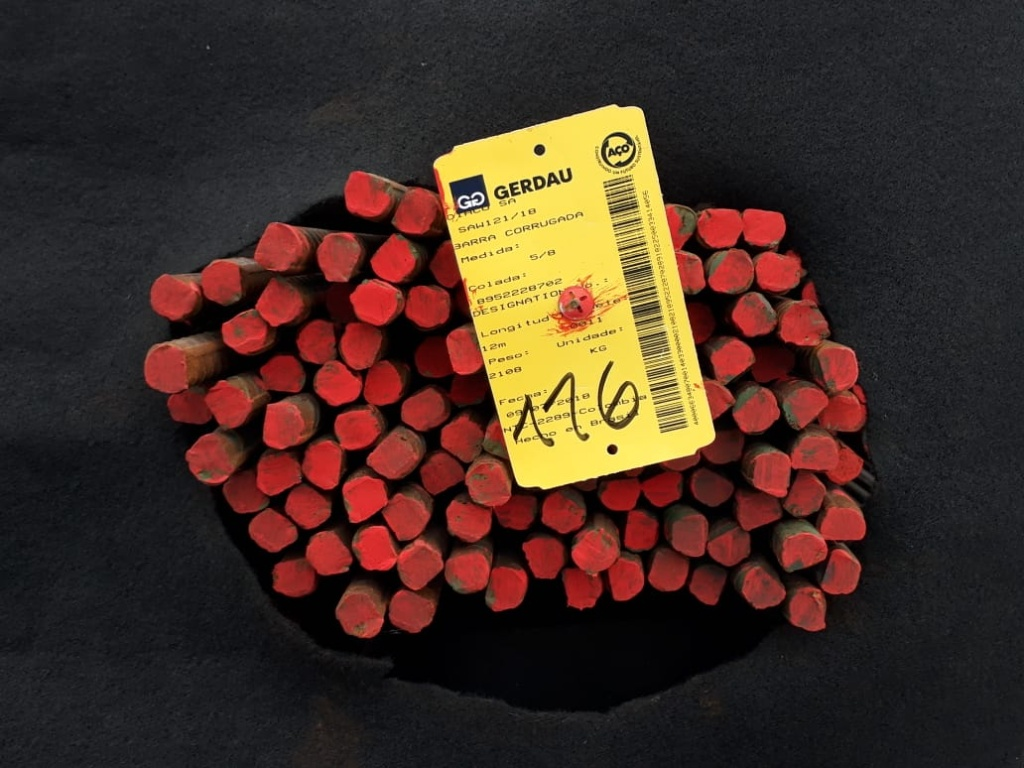dipstick: (149, 275, 201, 321), (255, 223, 303, 271), (256, 279, 305, 325), (187, 435, 233, 484), (143, 343, 188, 393), (366, 434, 417, 478), (383, 494, 430, 541), (572, 528, 619, 574), (711, 338, 757, 385), (350, 280, 398, 325), (207, 380, 252, 428), (371, 233, 415, 281), (336, 594, 384, 638), (344, 170, 390, 215), (398, 543, 443, 589), (733, 386, 778, 432), (781, 300, 827, 345), (315, 361, 362, 405), (285, 485, 332, 529), (812, 348, 860, 391), (392, 188, 436, 234), (343, 477, 387, 523), (318, 233, 360, 281), (249, 509, 297, 551), (222, 309, 267, 353), (733, 292, 778, 336), (709, 249, 754, 293), (389, 590, 435, 633), (305, 532, 352, 574), (341, 321, 382, 369), (441, 418, 484, 463), (445, 500, 491, 542), (749, 451, 791, 497), (353, 526, 396, 570), (401, 388, 445, 431), (262, 404, 304, 449), (256, 454, 302, 495), (466, 464, 510, 506), (224, 471, 269, 512), (783, 388, 828, 429), (303, 441, 341, 489), (743, 566, 785, 609), (445, 552, 489, 593), (486, 567, 527, 611), (405, 286, 449, 327), (334, 410, 380, 449), (781, 533, 827, 572), (201, 261, 242, 304), (421, 453, 464, 494), (541, 492, 585, 532), (819, 390, 863, 430), (821, 549, 860, 594), (648, 548, 688, 591), (785, 473, 825, 516), (297, 321, 336, 364), (699, 208, 742, 247), (446, 330, 484, 374), (756, 252, 800, 290), (792, 436, 838, 472), (708, 526, 750, 565), (738, 492, 781, 530), (259, 356, 305, 391), (523, 539, 563, 579), (563, 569, 603, 609), (692, 468, 734, 506), (789, 588, 826, 631), (365, 361, 401, 405), (429, 241, 462, 289), (609, 558, 645, 602), (273, 559, 315, 596), (743, 209, 786, 245), (666, 204, 698, 252), (820, 507, 866, 540), (495, 493, 536, 530), (671, 515, 707, 556), (168, 390, 210, 425), (415, 337, 451, 377), (703, 429, 744, 463), (690, 565, 725, 604), (600, 476, 640, 510), (625, 510, 658, 551), (644, 471, 680, 506), (829, 447, 863, 484), (677, 251, 705, 294), (484, 418, 509, 460)
